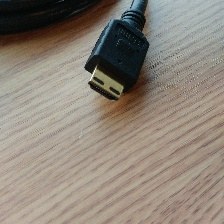hdmi_male: (84, 43, 221, 157), (29, 96, 135, 208)
